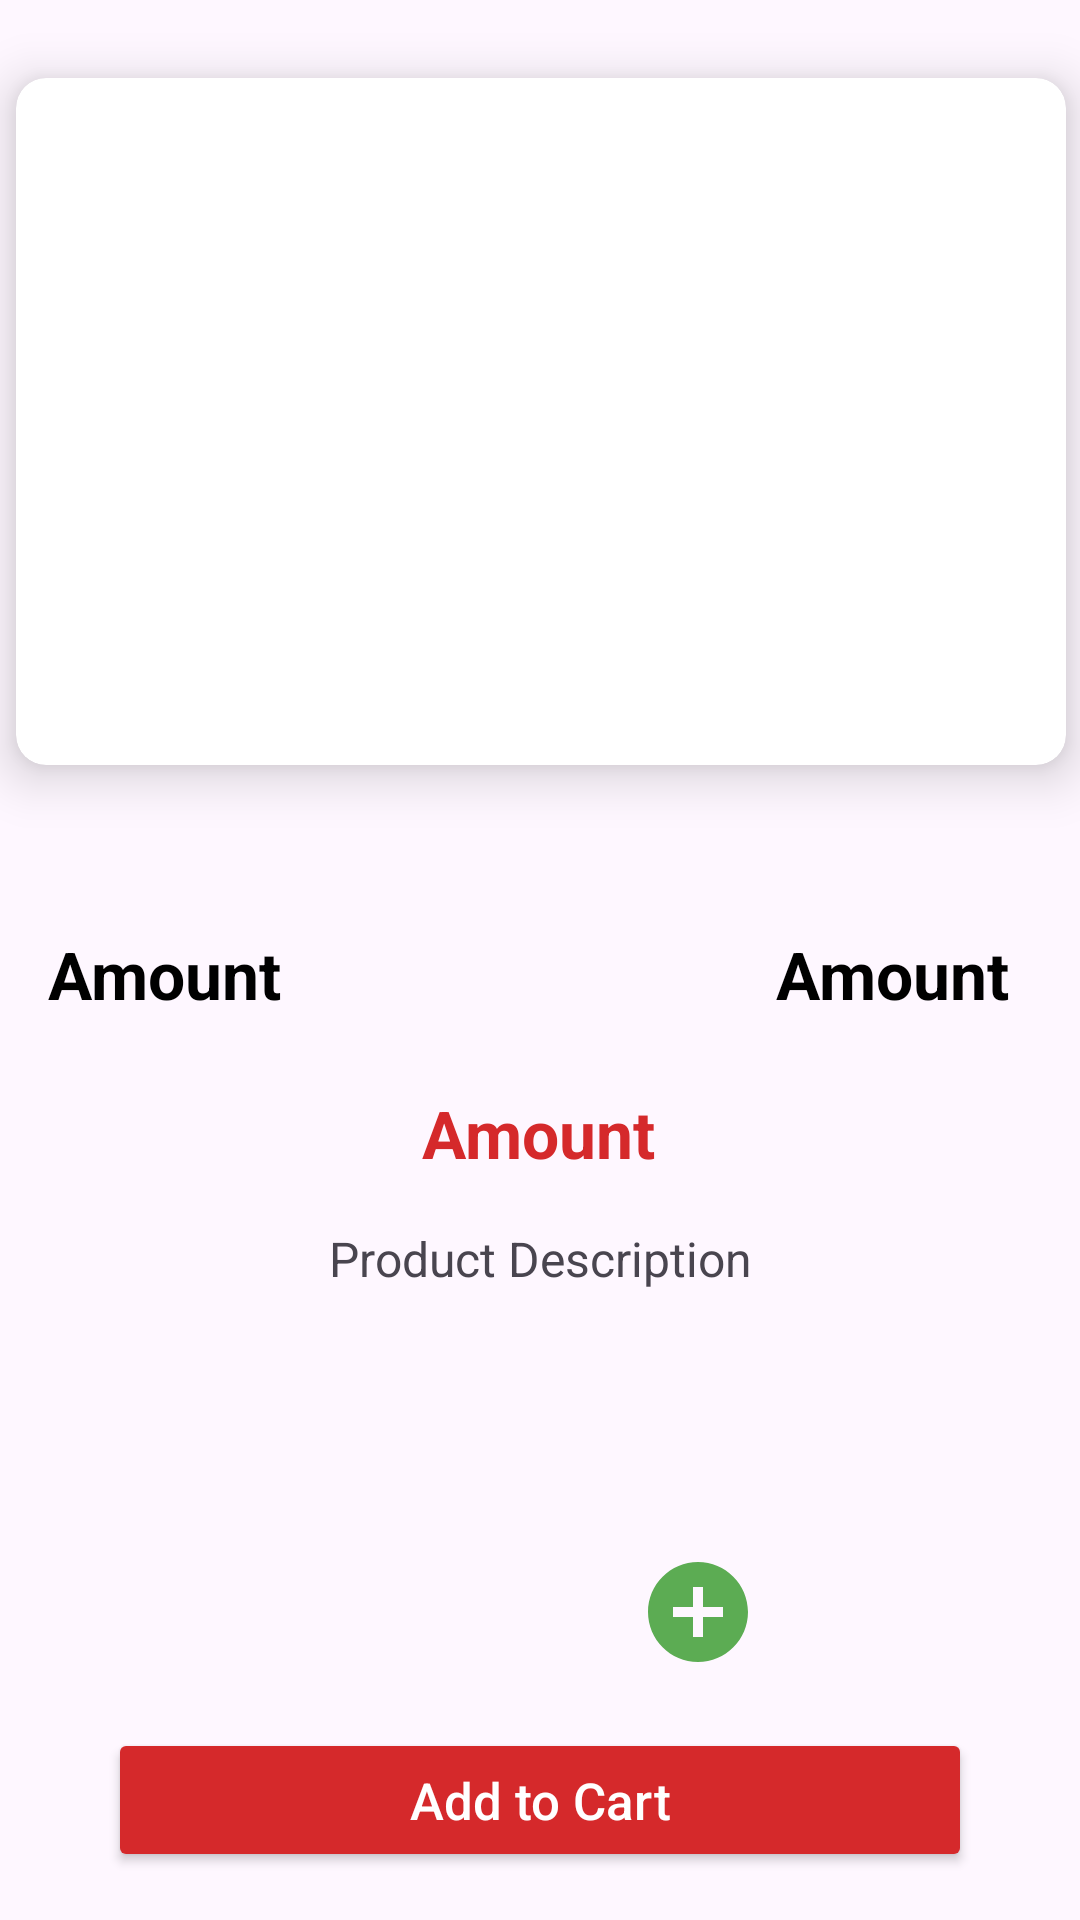

Screen size 1080×1920. Icon name, then its center in pixels as (x,y):
add circle: (698,1612)
